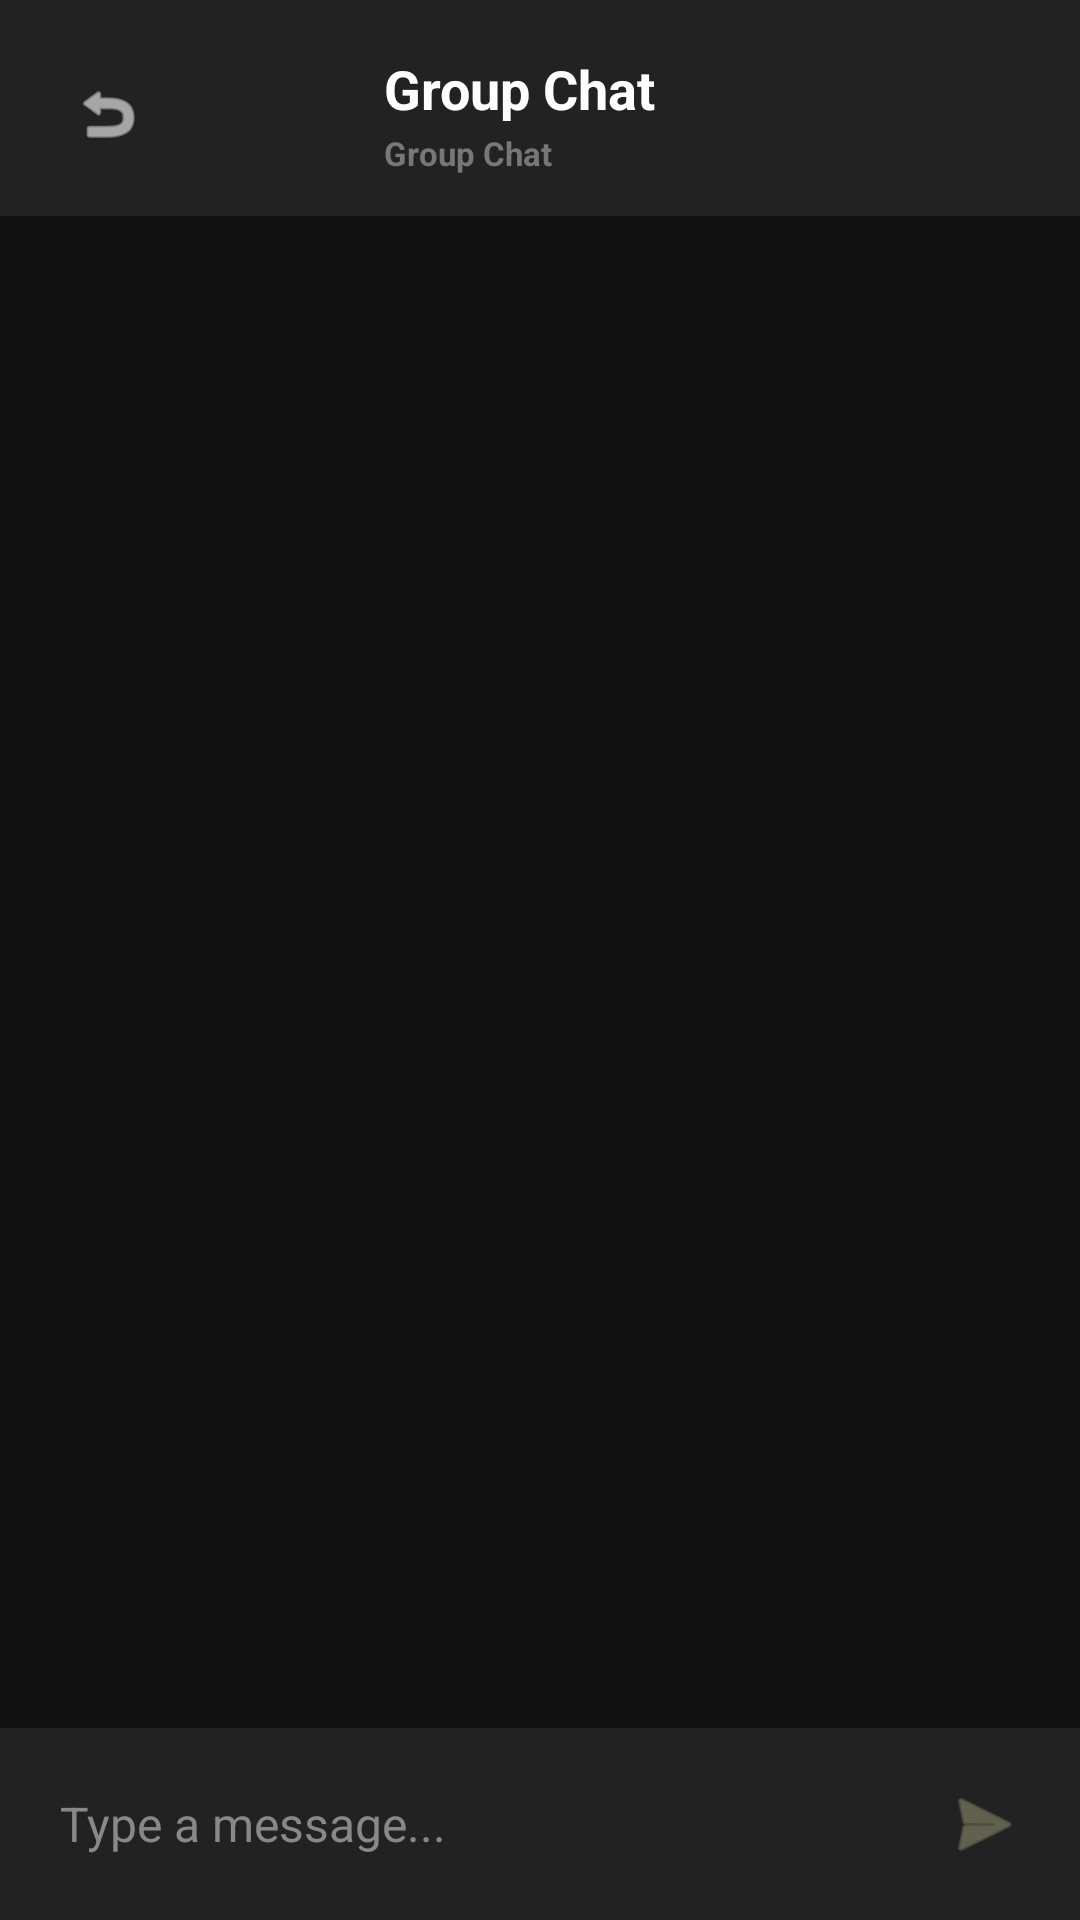

Icon click points for this 1080x1920 phone screenshot, format point (x, y):
Back: point (109, 114)
Send: point (984, 1824)
